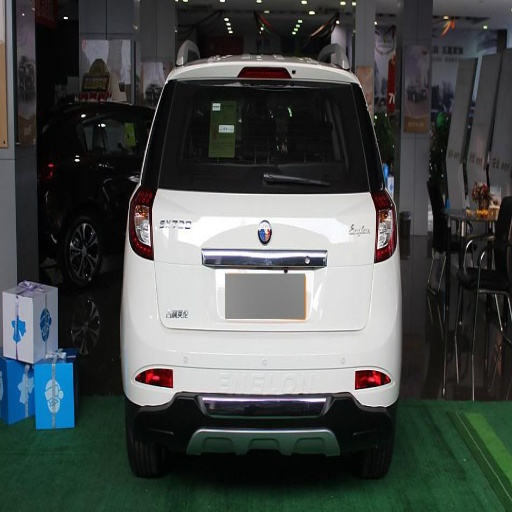back_bumper: (127, 252, 429, 449)
tailgate: (220, 193, 374, 328)
trunk: (139, 189, 247, 330)
